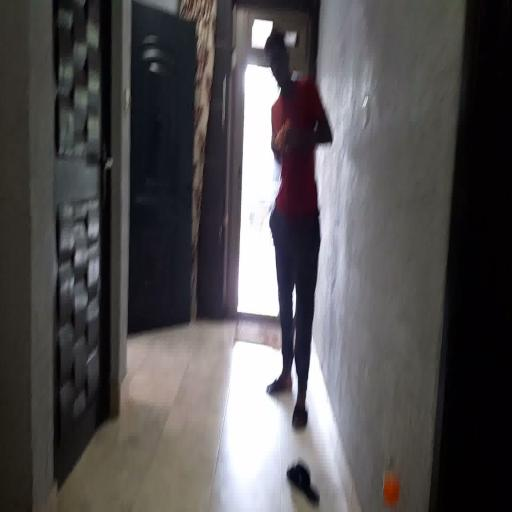plastic-ball: (380, 464, 402, 510)
